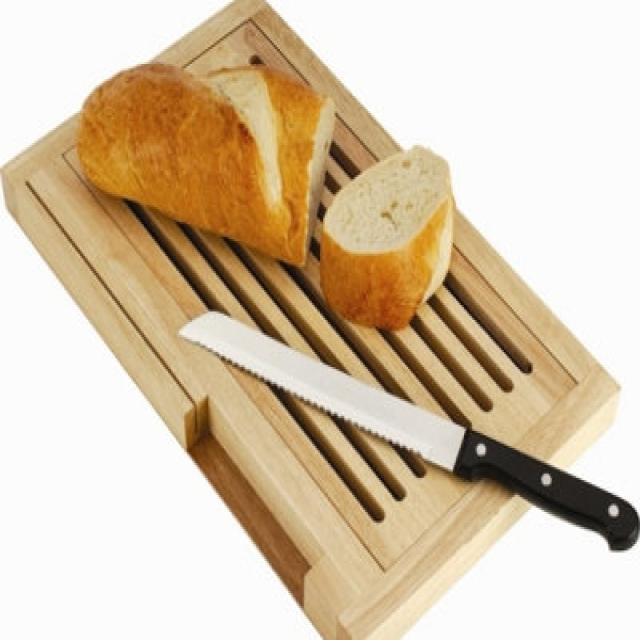Knife: (179, 311, 638, 548)
